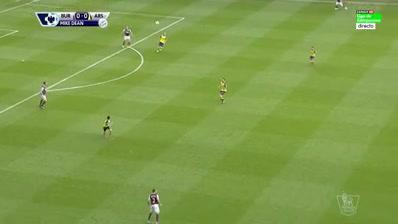futbol: (153, 19, 162, 27)
player: (146, 185, 165, 223), (37, 79, 50, 112), (216, 76, 230, 106), (101, 114, 115, 140), (156, 30, 170, 56), (121, 24, 134, 50), (307, 45, 319, 69)
